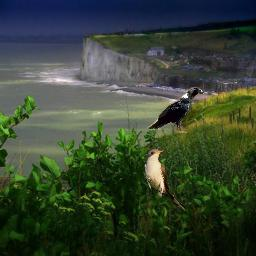Crow: (147, 87, 205, 133)
Cuckoo: (143, 148, 187, 212)
